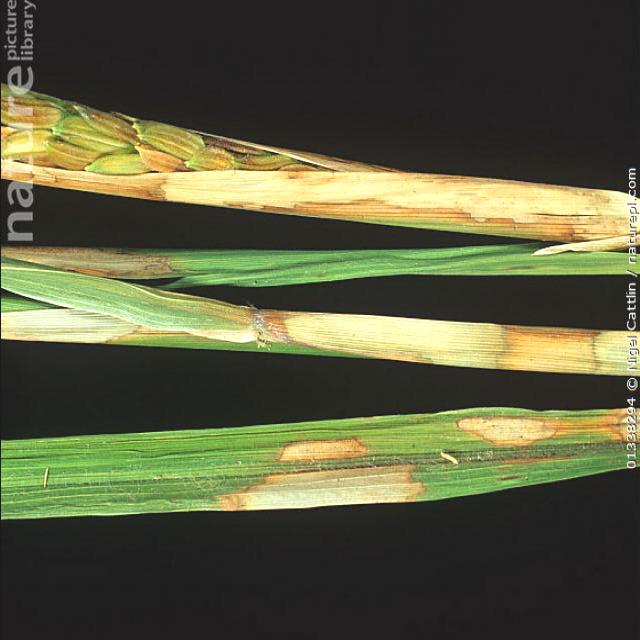Bacterial_Leaf_Blight: (36, 80, 622, 240), (215, 414, 621, 510), (192, 308, 622, 378), (1, 307, 182, 343), (2, 244, 176, 278)
